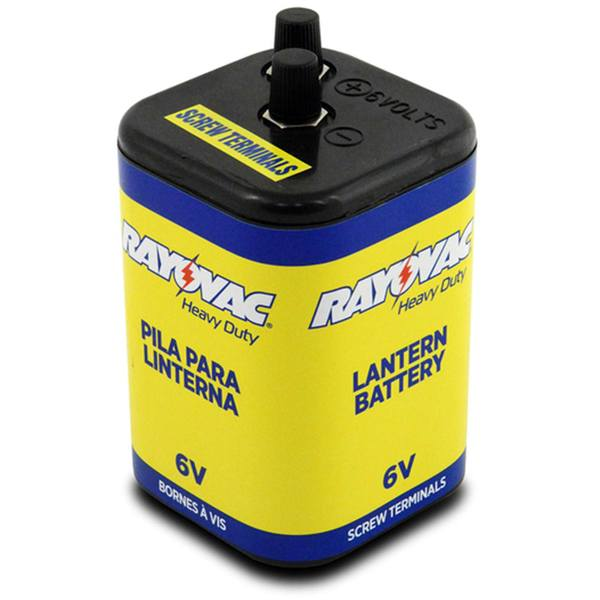6V: (94, 7, 490, 581)
